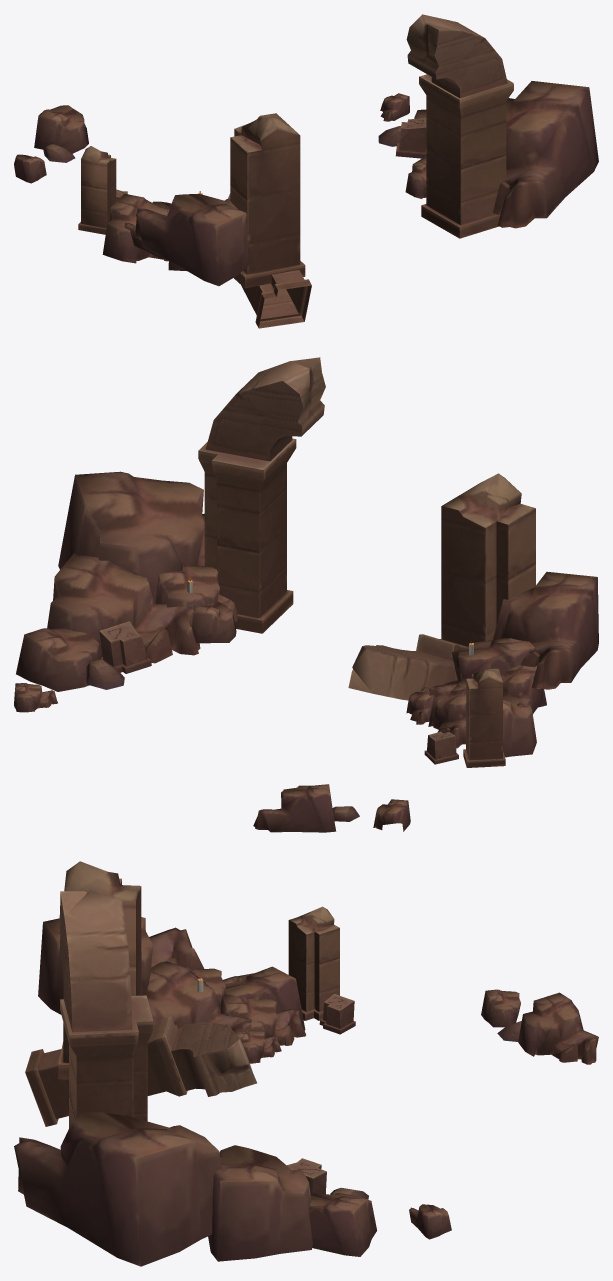
File: area_05_poshuishimen.FBX
3 renders of one model, top to bottom at view 1: azimuth 30°, elevation 25°; view 2: azimuth 150°, elevation 25°; view 3: azimuth 270°, elevation 25°, orthographic. The views are drawn at different scales.
Parts seen in each view (by area): view 1: area_05_poshuishimen; view 2: area_05_poshuishimen; view 3: area_05_poshuishimen.
Boxes of the visible parts, box(x1,y1,x2,y2) form: area_05_poshuishimen: box(14, 14, 598, 328); area_05_poshuishimen: box(14, 357, 598, 832); area_05_poshuishimen: box(14, 861, 598, 1266).
Bounding box in the file's own units: 2674 × 1437 × 2361.
